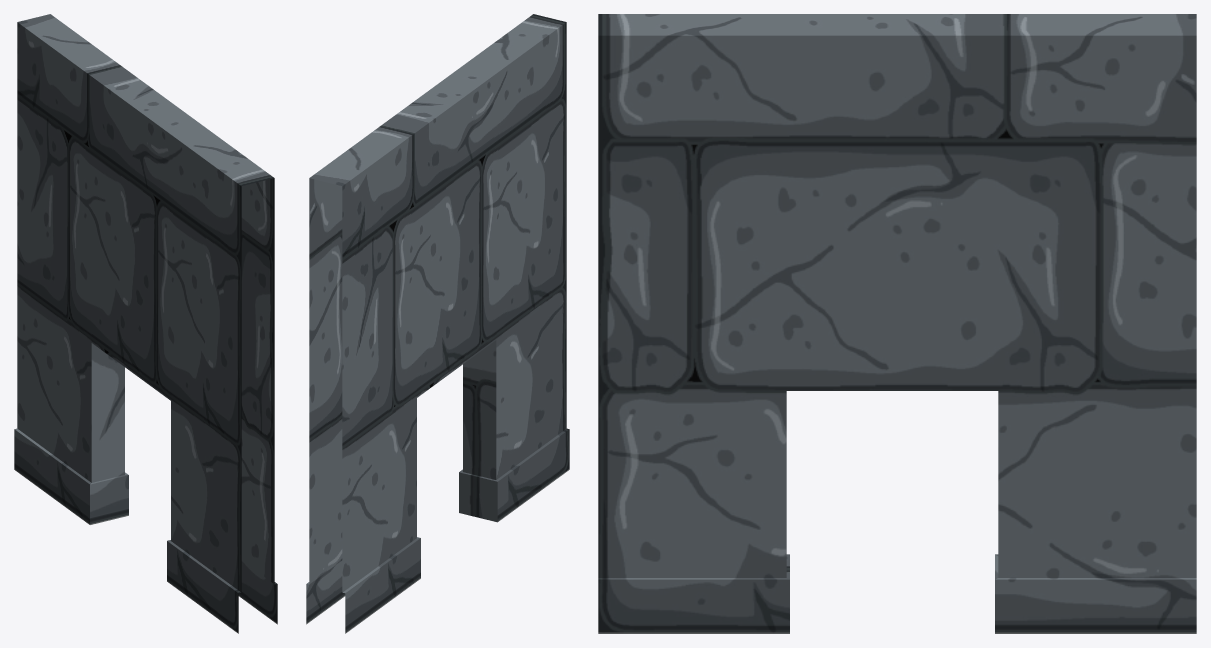
File: NewDoorFrame.fbx
The picture shows the model from 3 angles, left to right: view 1: azimuth 30°, elevation 25°; view 2: azimuth 150°, elevation 25°; view 3: azimuth 270°, elevation 25°; orthographic projection. The views are drawn at different scales.
Visible parts, largest first — view 1: wallOverhangTile__3_; view 2: wallOverhangTile__3_; view 3: wallOverhangTile__3_.
Part boxes in pixels (x1,y1,x2,y2): wallOverhangTile__3_: [14, 14, 277, 633]; wallOverhangTile__3_: [306, 14, 569, 633]; wallOverhangTile__3_: [598, 14, 1196, 633].
Size of the model in its own units: 50 by 550 by 500.
